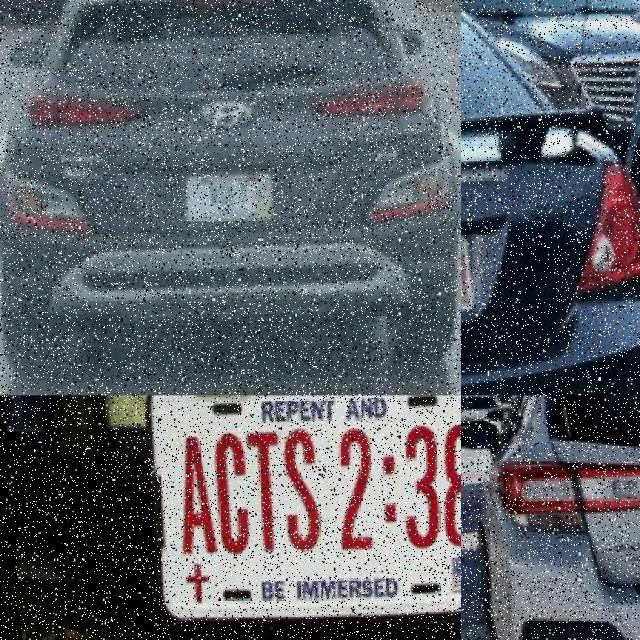licenseplate: (132, 395, 460, 637), (176, 181, 267, 228)
